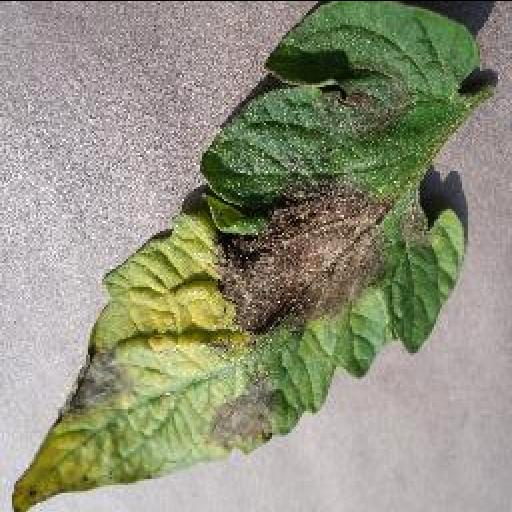disease_tomato: (6, 0, 480, 512)
